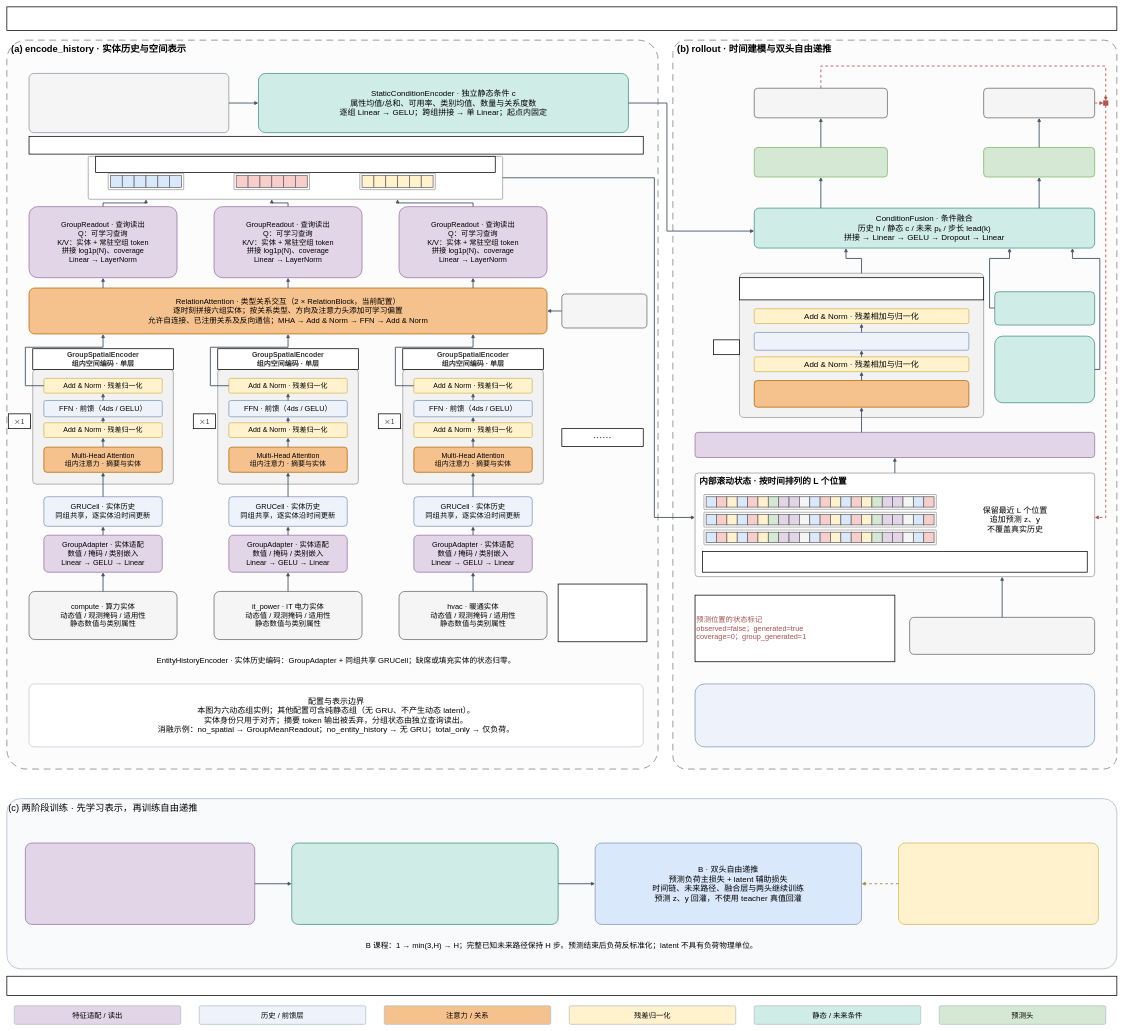
The diagram is 1124 pixels wide and 1031 high, and some of its shapes have lost their labels. Each missing label, with the centre of its shape:
"A · 直接多步负荷监督 训练表示链及负荷预测路径 latent 头冻结，不参与损失 按验证集选出 best_A" goes at [140,883].
"B：批大小；L：历史窗口；H：预测长度；ds：实体表示宽度；dz：组状态宽度；dt：时间表示宽度。图示为 full 主路径，direct 单独说明。" goes at [561,986].
"direct 对照 / A 阶段 历史时间编码仅运行一次；各未来步使用自身条件 只调用负荷头，不预测 latent、不回灌" goes at [894,715].
"Feed Forward · 前馈层（4dt / GELU）" goes at [861,341].
"FuturePathEncoder 已知未来路径编码 值 / mask / 日历 完整 H 步双向注意力 pₖ：起点一次编码" goes at [1044,369].
"GSLAformer 实现架构 · AIDC 六动态组实例" goes at [561,18].
"latent_heads · 分组状态头 每组 Linear(dt,dz)" goes at [821,162].
"lead(k) · 预测步长编码 相对原起点的正弦编码" goes at [1044,308].
"load_head · 总负荷头 Linear(dt,1)" goes at [1039,162].
"Masked Multi-Head Attention · 因果注意力 屏蔽未来窗口位置" goes at [861,393].
"relations_history 历史关系 Rₜ · 按时刻对齐" goes at [604,310].
"target_history · 真实负荷历史 仅用于初始化内部状态" goes at [1002,636].
"TemporalEncoder · 因果时间编码 Post-LN；每步取当前窗口末位 h" goes at [861,288].
"×Nₜ" goes at [726,347].
"下一步动态组状态 ẑ [B,6,dz]" goes at [821,103].
"下一步总负荷 ŷ [B,1] · 标准化坐标" goes at [1039,103].
"仅训练使用的 teacher 冻结表示链 + 未来实体监督 复制历史末端 memory；no_grad latent 标签仅进入辅助损失" goes at [998,883].
"全部特征联合 Linear → dt；再加窗口内正弦位置（不另设日历投影）" goes at [894,445].
"其余三组 配电 / 空间 / 环境 共六个动态组" goes at [602,612].
"加载 best_A · 冻结完整表示链 实体历史 / 组内空间 / 关系 / 读出 / 静态链 冻结模块保持 eval 建立 latent 训练统计" goes at [424,883].
"动态组状态：单时刻 [B,6,dz]；全窗口 [B,L,6,dz]" goes at [295,164].
"每步特征：z 展平 / 负荷 y / 观测与生成标记 / 逐组覆盖率 / 日历四维" goes at [894,561].
"空间表示按历史时刻计算；一次预测只编码一次历史 z 与静态条件 c。" goes at [335,145].
"预测起点的静态证据 属性 / 类别 / 有效实体 逐类型、逐方向的关系度数" goes at [128,103].
